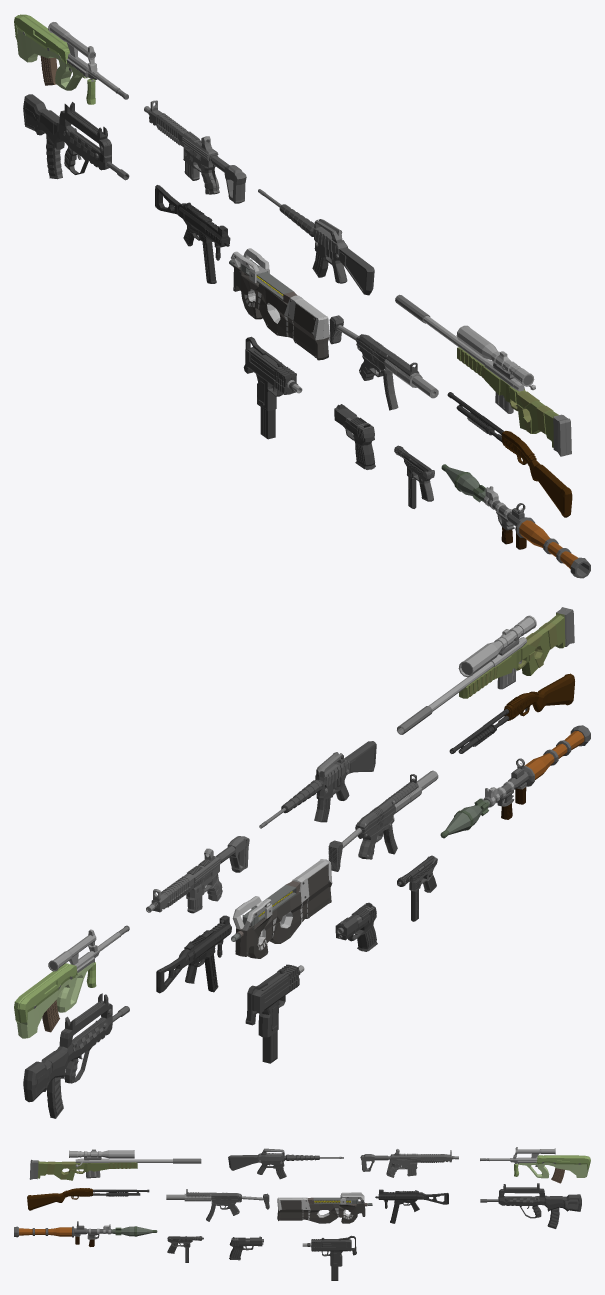
File: low poly weapons pack.fbx
3 renders of one model, top to bottom at view 1: azimuth 30°, elevation 25°; view 2: azimuth 150°, elevation 25°; view 3: azimuth 270°, elevation 25°, orthographic. The views are drawn at different scales.
Parts seen in each view (by area): view 1: Куб.016, Куб.008, Куб.002, Куб, Куб.022, Цилиндр.016, Куб.024, Куб.010, Cube.009, Cube.007, Куб.013, Цилиндр.004 (+4 smaller); view 2: Куб.016, Куб.008, Куб.002, Куб, Куб.024, Цилиндр.016, Куб.022, Cube.009, Куб.010, Куб.013, Cube.007, Цилиндр.004 (+6 smaller); view 3: Куб.016, Куб.008, Куб.002, Куб, Куб.022, Куб.024, Цилиндр.016, Cube.009, Куб.010, Cube.007, Куб.013, Цилиндр.003 (+11 smaller).
Part boxes in pixels (x1,y1,x2,y2): Куб.016: (231,248,329,360); Куб.008: (23,94,111,174); Куб.002: (457,347,571,456); Куб: (14,14,88,90); Куб.022: (313,219,374,295); Цилиндр.016: (484,486,590,578); Куб.024: (149,100,219,194); Куб.010: (246,347,296,410); Cube.009: (155,185,230,247); Cube.007: (501,431,572,517); Куб.013: (356,334,419,380); Цилиндр.004: (456,325,534,386); Куб.016: (232,859,332,958); Куб.008: (23,993,112,1102); Куб.002: (459,607,574,698); Куб: (14,962,94,1038); Куб.024: (151,848,222,912); Цилиндр.016: (483,725,590,807); Куб.022: (315,741,376,800); Cube.009: (156,915,231,993); Куб.010: (252,964,299,1037); Куб.013: (355,774,418,859); Cube.007: (504,673,574,720); Цилиндр.004: (458,615,536,677); Куб.016: (277,1192,365,1223); Куб.008: (498,1183,581,1218); Куб.002: (29,1159,137,1180); Куб: (518,1155,590,1178); Куб.022: (228,1148,285,1174); Куб.024: (386,1149,451,1177); Цилиндр.016: (14,1221,111,1237); Cube.009: (378,1189,448,1211); Куб.010: (311,1239,351,1266); Cube.007: (27,1188,92,1210); Куб.013: (186,1189,241,1215); Цилиндр.003: (75,1158,201,1163).
Bounding box in the file's own units: 154 × 1481 × 5824.
